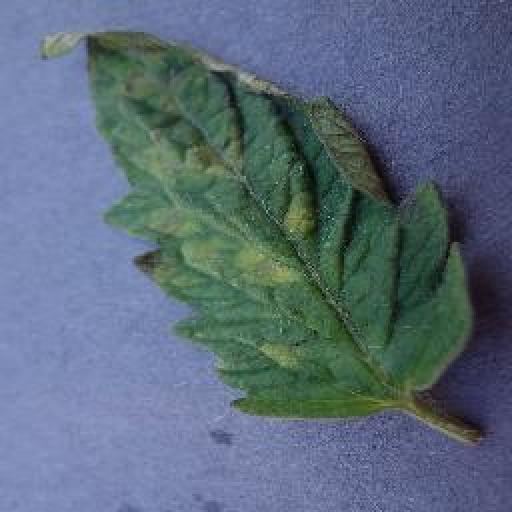Leaf Mold: (87, 28, 479, 421)
